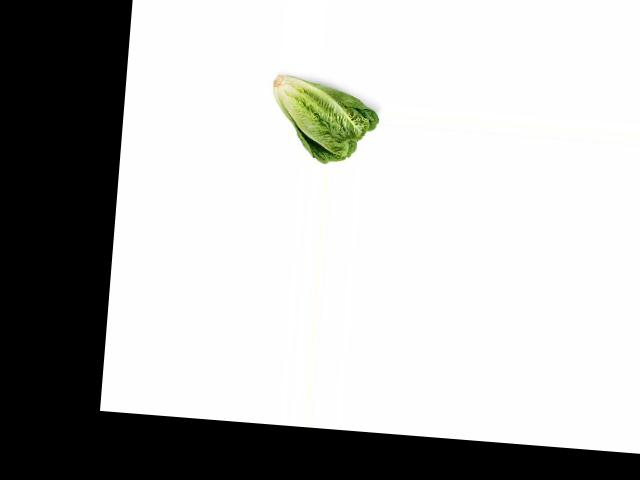lettuce: (265, 72, 381, 167)
